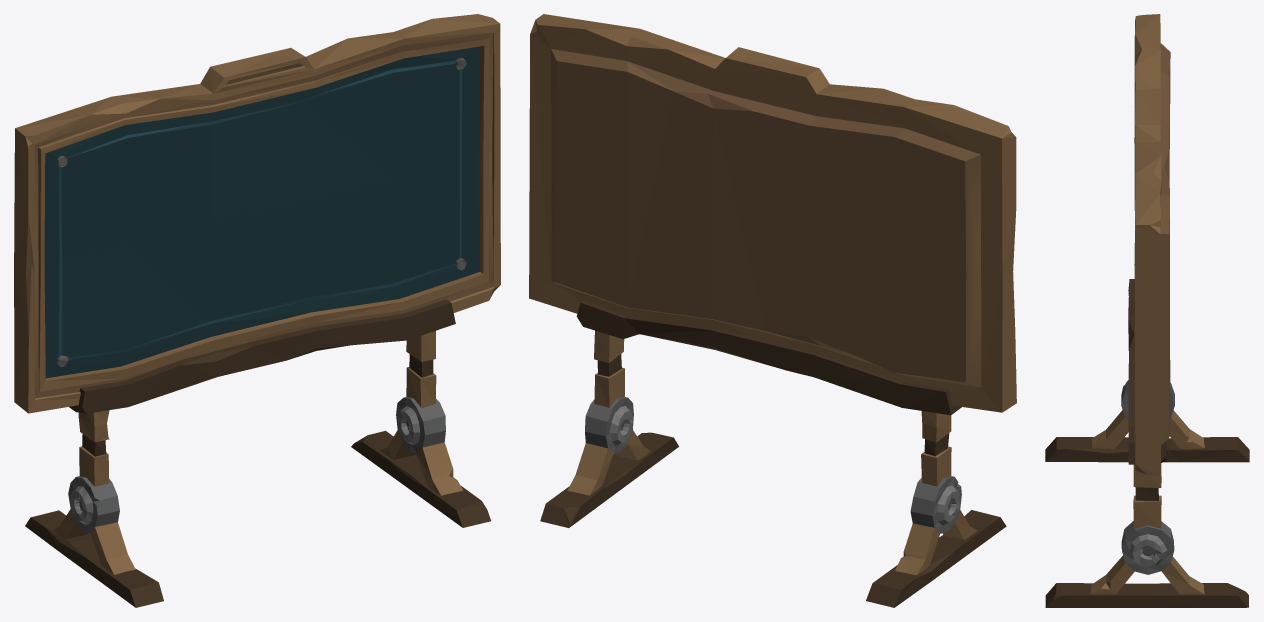
File: SFHW_Board.fbx
The picture shows the model from 3 angles, left to right: view 1: azimuth 30°, elevation 25°; view 2: azimuth 150°, elevation 25°; view 3: azimuth 270°, elevation 25°; orthographic projection. The views are drawn at different scales.
Parts seen in each view (by area): view 1: SFHW_Board; view 2: SFHW_Board; view 3: SFHW_Board.
Part boxes in pixels (x1,y1,x2,y2): SFHW_Board: [14, 14, 500, 607]; SFHW_Board: [529, 14, 1016, 607]; SFHW_Board: [1045, 14, 1249, 607].
Bounding box in the file's own units: 229 × 214 × 93.76.
